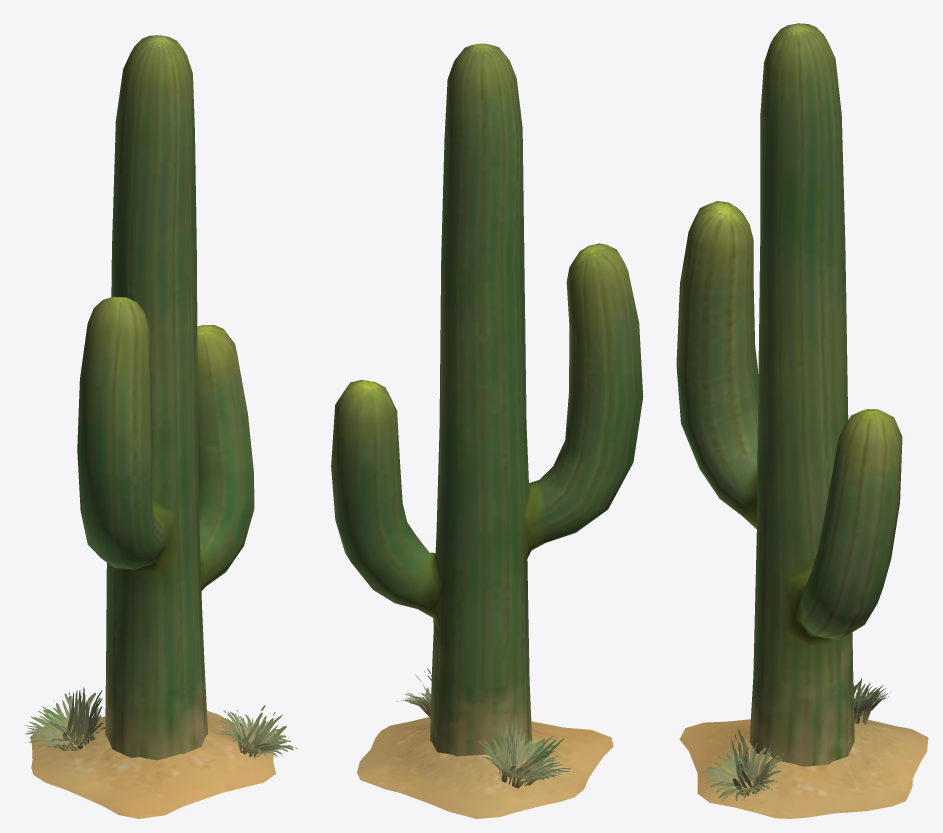
The picture shows the model from 3 angles, left to right: view 1: azimuth 30°, elevation 25°; view 2: azimuth 150°, elevation 25°; view 3: azimuth 270°, elevation 25°; orthographic projection. The views are drawn at different scales.
Bounding box in the file's own units: 10.4 × 29.92 × 8.96.
1 material, 1 textured.
